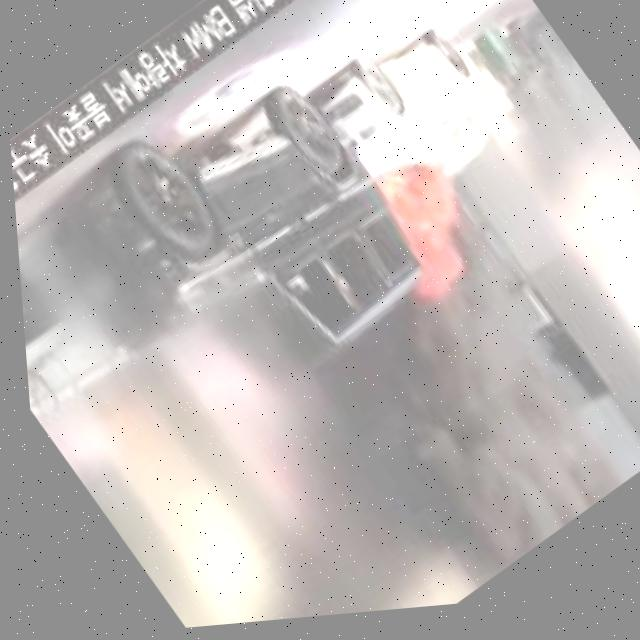Fire: (350, 168, 486, 321)
